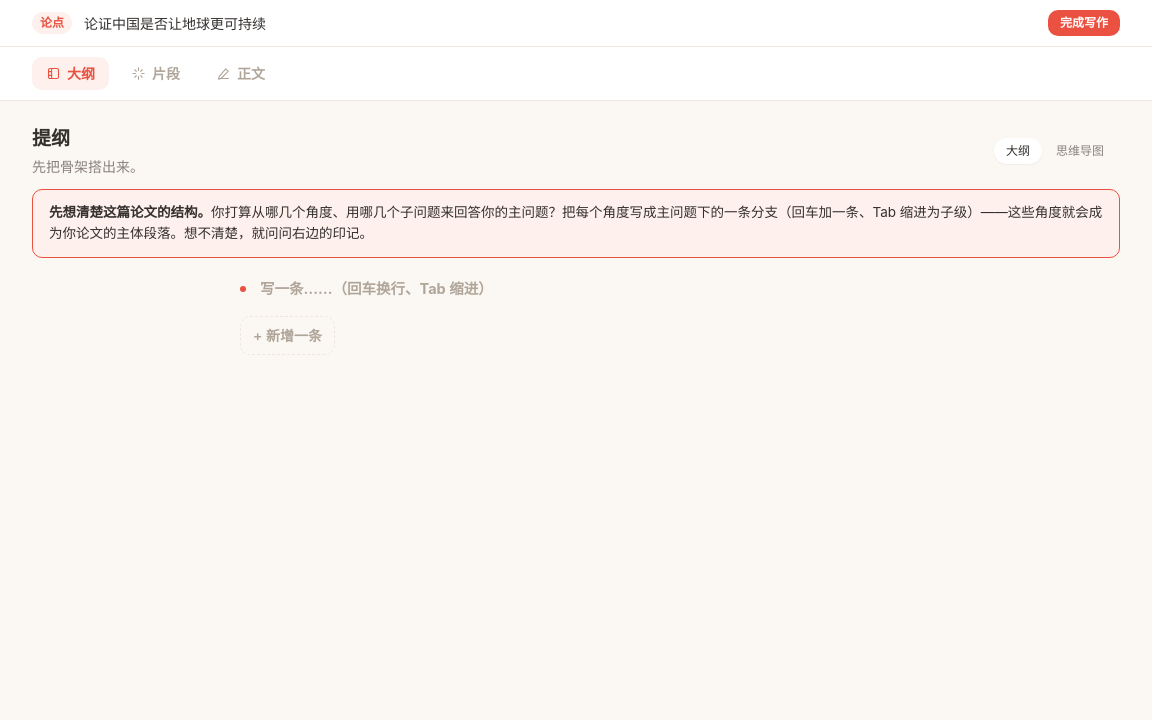
Test case: WritingBlock · 整稿体检 (WA) › runs the review and renders advice read-only, never editing the draft
Click the button "正文". click: (240, 74)
box: [202,57,279,90]
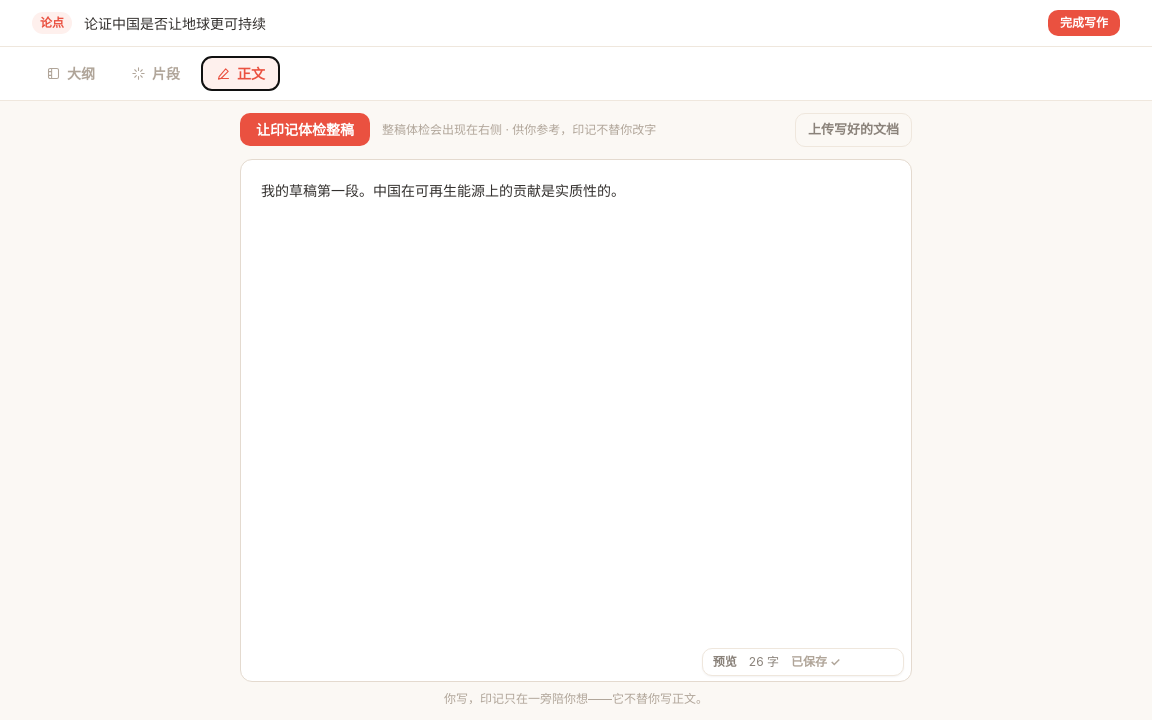
Click the button "让印记体检整稿". click: (305, 130)
box: [240,113,370,146]
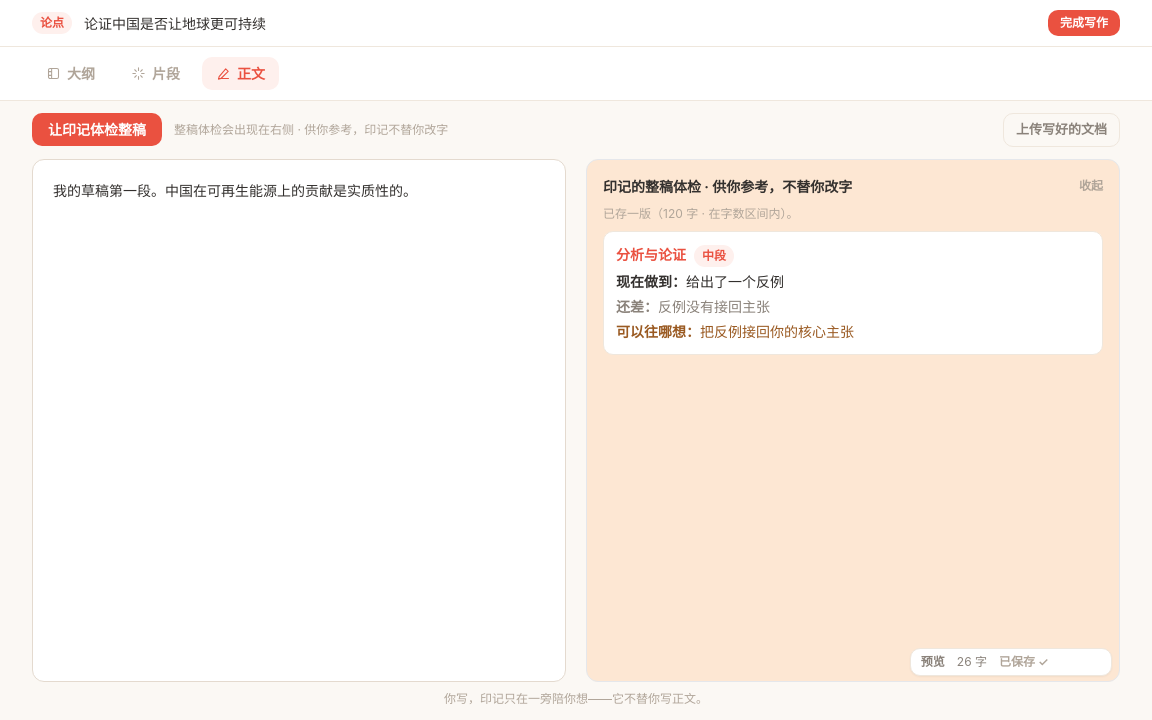
expect the text box with placeholder "在这里写你的草稿……（支持 Markdown）" holds "我的草稿第一段。中国在可再生能源上的贡献是实质性的。": met, box [32,158,566,682]
expect the text "可以往哪想：把反例接回你的核心主张" is shown: met, box [616,322,854,340]
expect the text "分析与论证" is shown: met, box [616,244,686,264]
